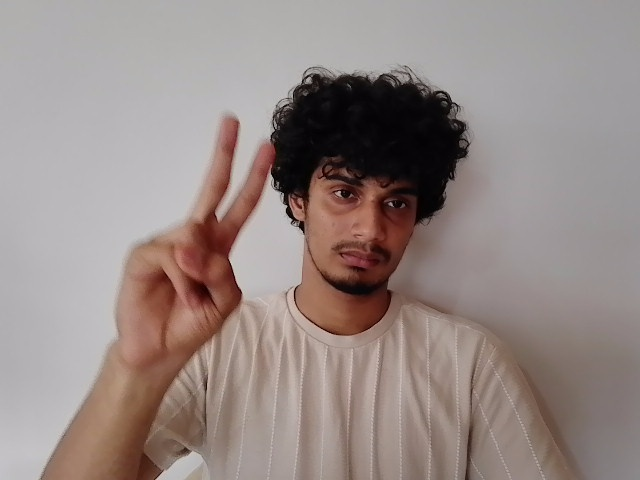travel: (101, 102, 286, 353)
